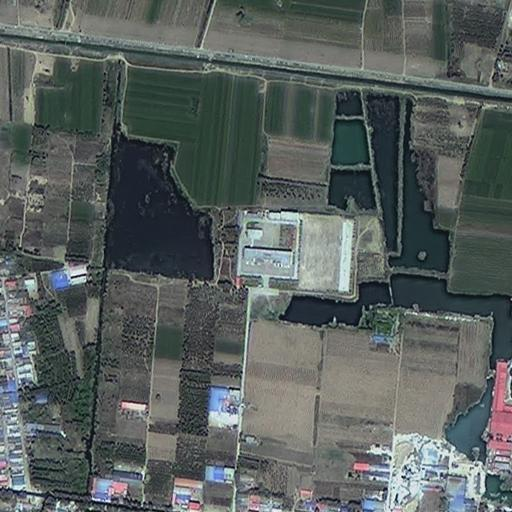school: (238, 204, 358, 296)
